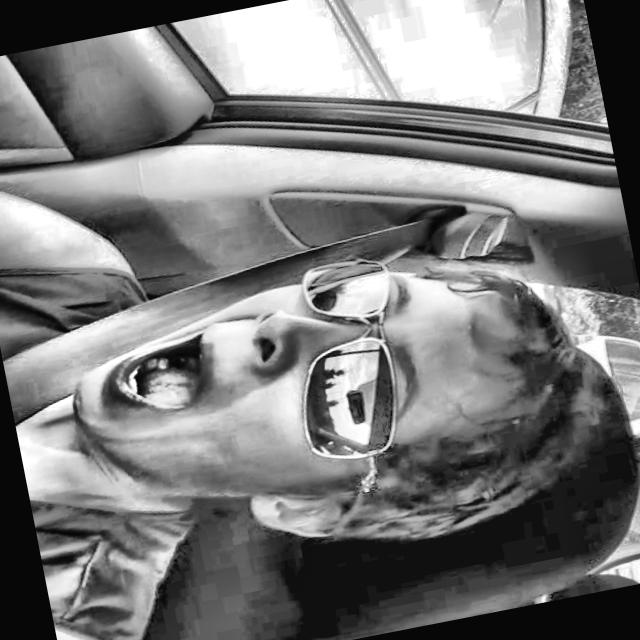open_mouth: (91, 311, 234, 439)
